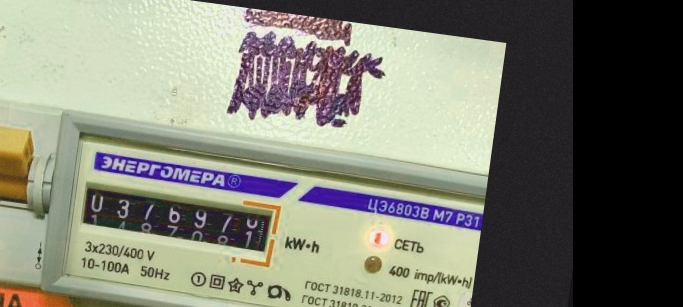0: (87, 189, 104, 212)
1: (241, 227, 254, 249)
3: (115, 196, 131, 219)
6: (165, 199, 183, 224)
7: (139, 197, 157, 222), (216, 209, 234, 234)
9: (191, 205, 208, 228)
screen: (69, 167, 286, 270)
